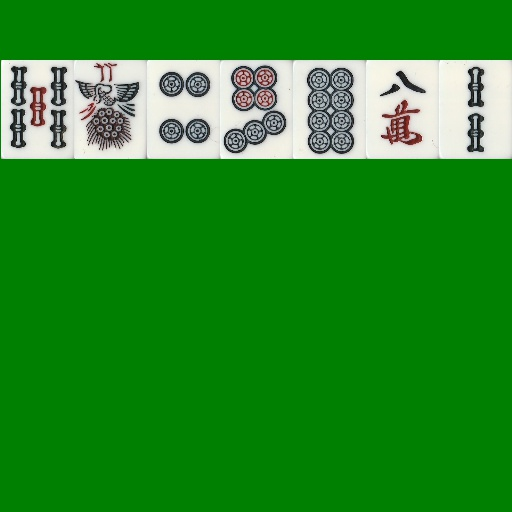1s: (74, 60, 147, 159)
2s: (439, 60, 512, 159)
4p: (147, 60, 220, 159)
5s: (1, 60, 74, 159)
7p: (220, 60, 293, 159)
8m: (366, 60, 439, 159)
8p: (293, 60, 366, 159)
